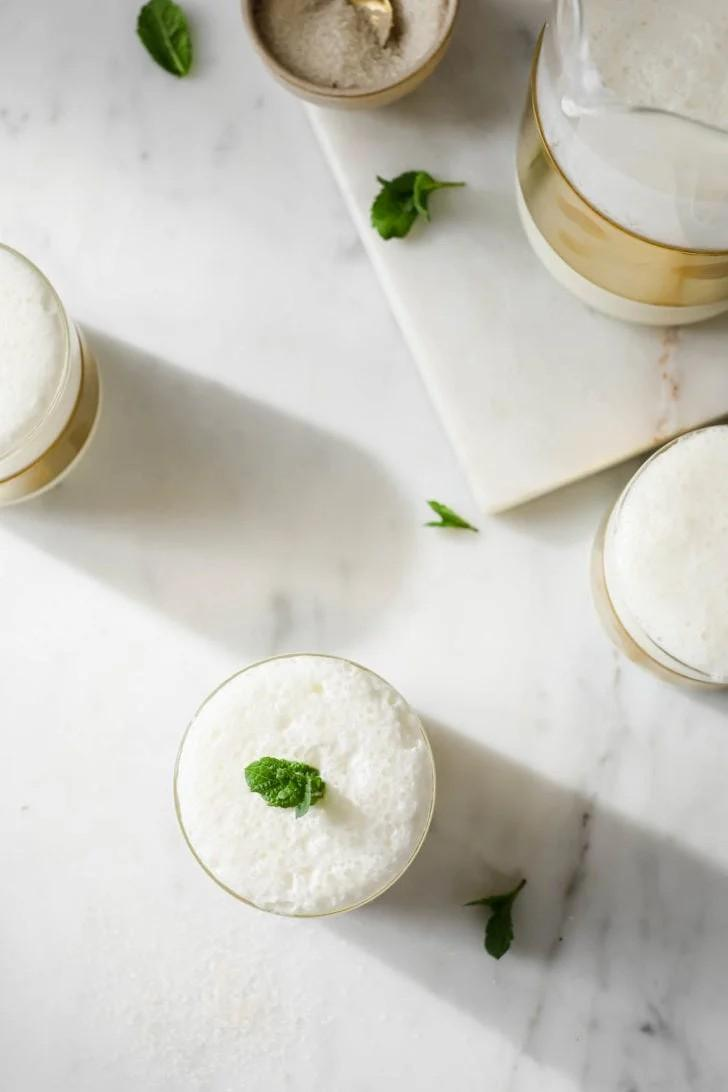Lassi: (178, 657, 437, 916)
